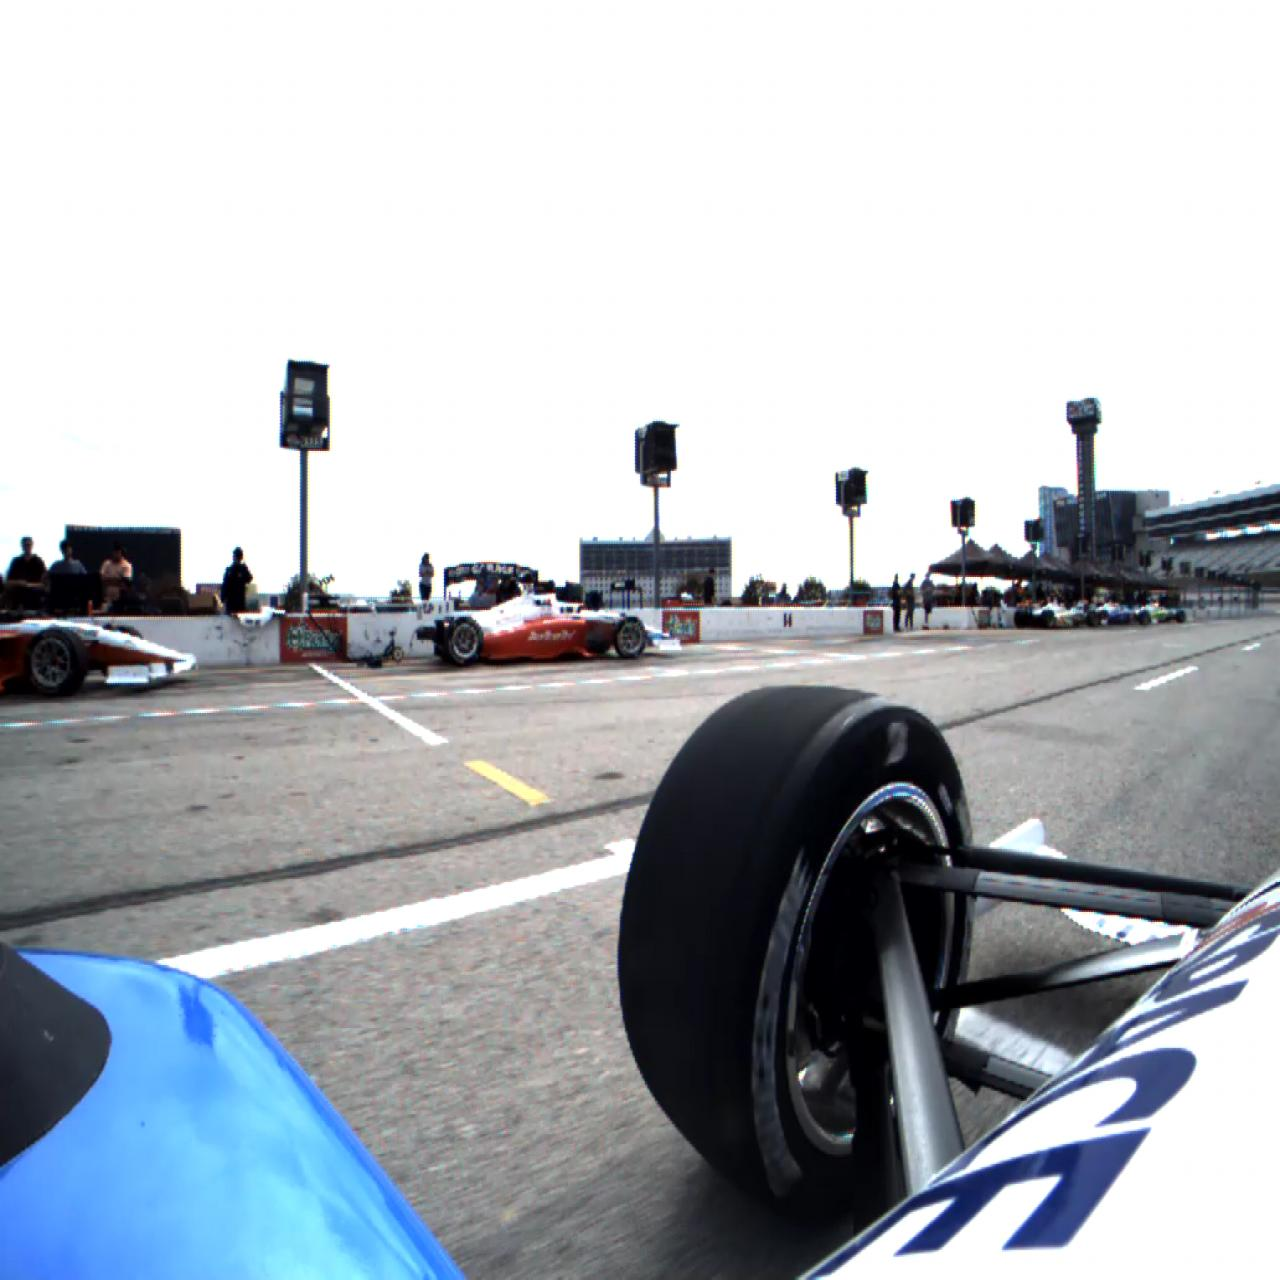AV: (433, 570, 682, 667), (0, 605, 198, 696)
Wheel: (619, 685, 978, 1212), (27, 627, 86, 697), (446, 616, 484, 667), (614, 611, 647, 661)
